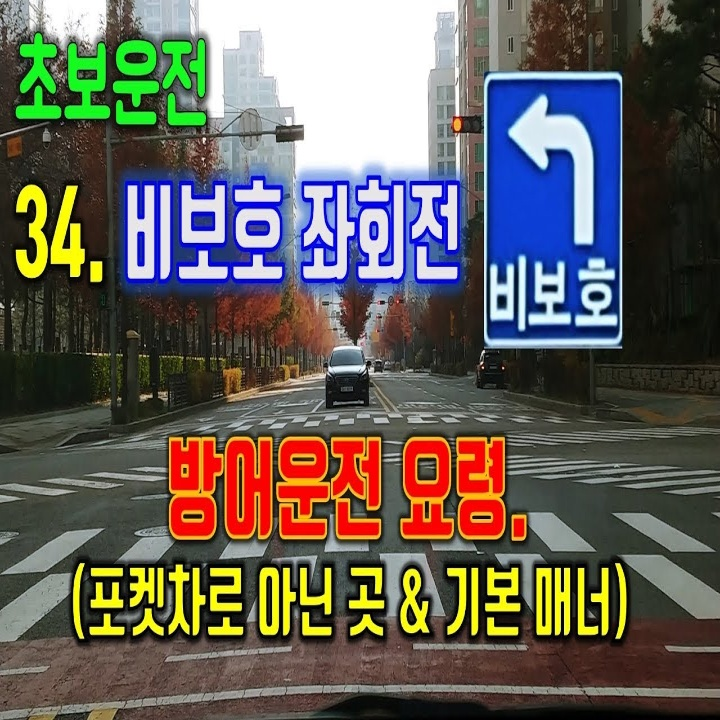left: (501, 86, 604, 249)
